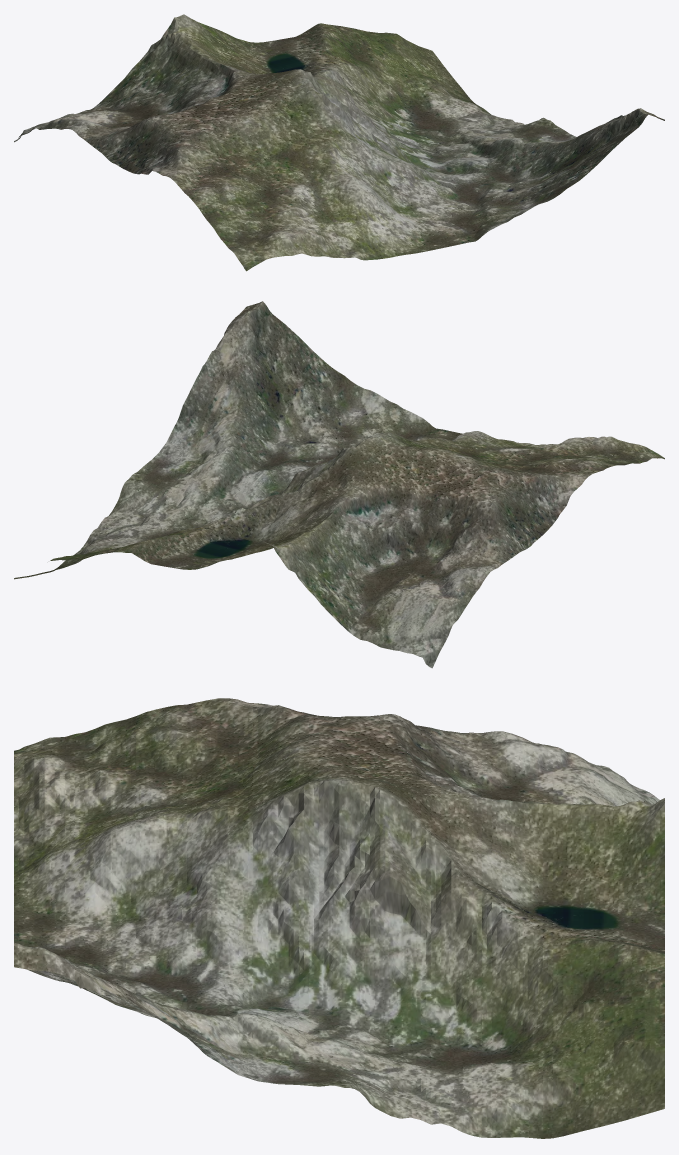
3 views of the same model, one above another, from view 1: azimuth 30°, elevation 25°; view 2: azimuth 150°, elevation 25°; view 3: azimuth 270°, elevation 25° (orthographic). The views are drawn at different scales.
Bounding box in the file's own units: 2000 × 635 × 1925.
Materials: 1 (1 with a texture image).
